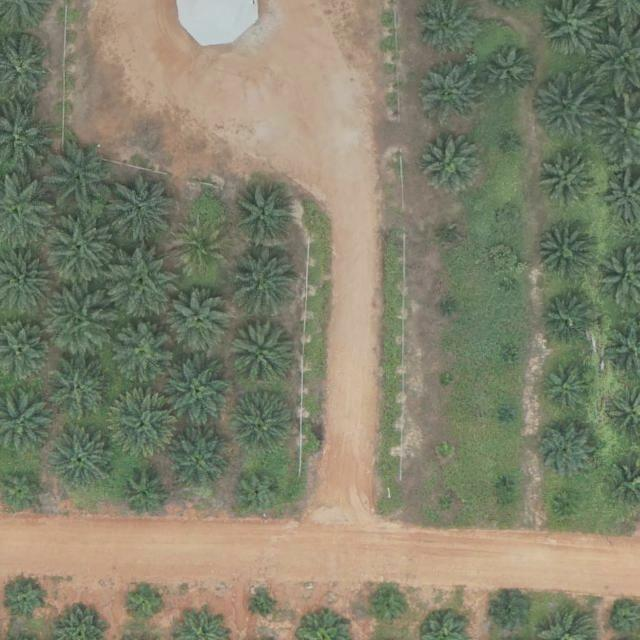Kelapa_Sawit: (530, 72, 600, 143), (108, 174, 178, 245), (107, 246, 177, 317), (44, 143, 114, 214), (44, 210, 114, 281), (108, 392, 178, 462), (530, 415, 600, 485), (230, 245, 300, 315), (162, 354, 232, 424), (42, 287, 112, 357), (419, 61, 481, 124), (417, 129, 479, 192), (231, 183, 293, 246), (167, 428, 229, 491), (47, 360, 109, 423), (50, 427, 112, 490), (228, 320, 290, 382), (231, 392, 293, 454), (169, 291, 231, 353), (110, 322, 172, 384), (0, 172, 50, 245), (0, 383, 52, 453), (0, 33, 50, 97), (0, 100, 44, 172), (541, 0, 600, 52), (418, 0, 477, 52), (542, 360, 597, 415), (540, 292, 595, 347), (173, 223, 228, 278), (0, 245, 46, 310), (540, 149, 594, 204), (536, 226, 590, 281), (482, 43, 536, 98), (597, 93, 639, 163), (595, 28, 640, 93), (595, 241, 640, 305), (0, 321, 48, 379), (601, 167, 639, 226), (234, 468, 280, 515), (122, 466, 168, 512), (605, 317, 639, 376), (51, 603, 105, 640), (177, 607, 231, 640), (538, 609, 595, 640), (295, 607, 350, 639), (3, 470, 43, 511), (421, 605, 469, 639), (605, 387, 639, 433), (489, 593, 528, 632), (7, 580, 45, 619), (123, 581, 161, 620), (370, 588, 408, 627), (607, 459, 639, 502), (609, 599, 639, 632), (495, 202, 524, 227), (249, 589, 274, 614), (556, 492, 579, 515), (500, 131, 520, 153), (497, 343, 517, 362), (437, 223, 457, 242), (496, 405, 515, 424), (495, 473, 513, 492), (501, 276, 518, 293), (438, 298, 455, 315), (436, 441, 452, 457), (439, 372, 454, 387), (438, 496, 453, 511)
